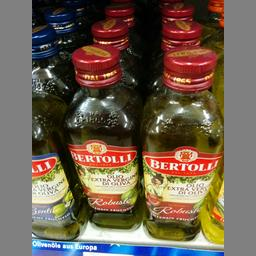oil: (141, 44, 224, 238), (63, 44, 142, 228)
